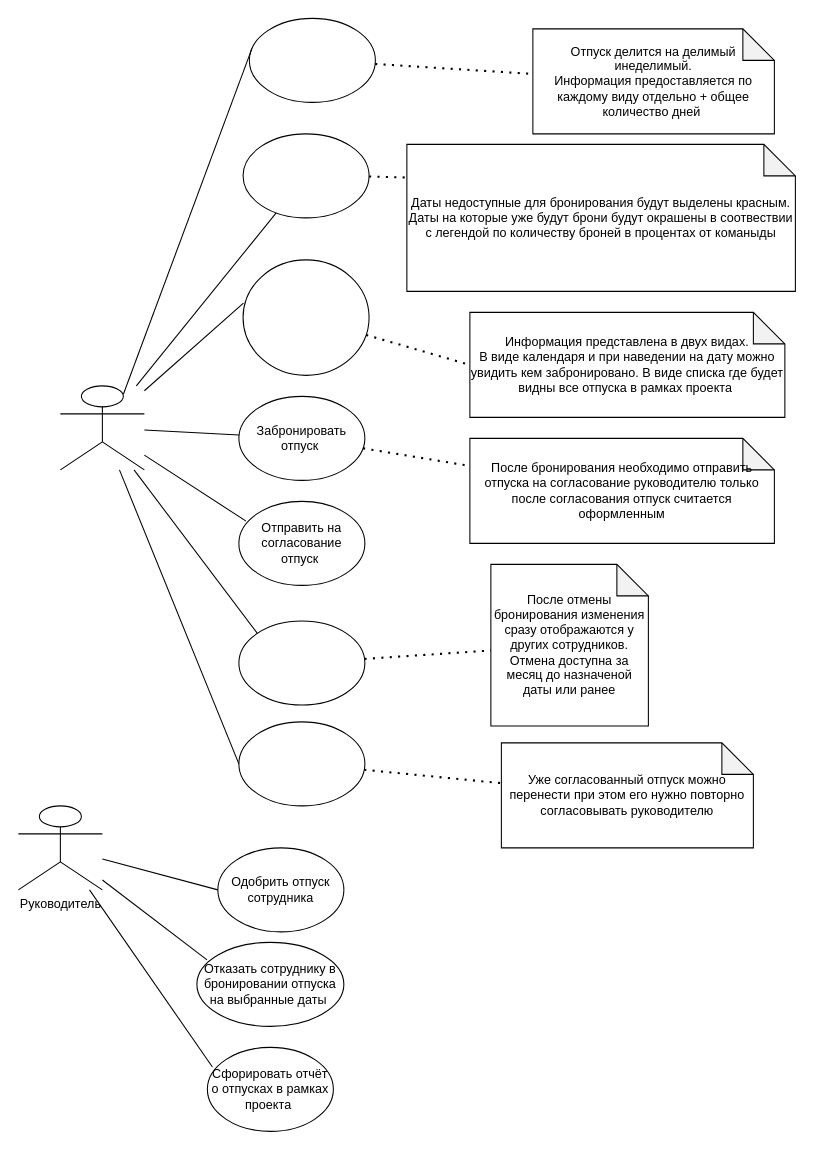
Image size: 814x1150. Some labels were removed from this diagram. Each missing label, with the centre of its shape:
"Отменить бронирование" goes at (301,662).
"Перенести отпуск" goes at (301,763).
"Посмотреть доступные даты для бронирования отпуска" goes at (305,175).
"Просмотреть календарь с информацией о бронировании отпуска в рамках проекта" goes at (305,317).
"Просмотреть количество доступных дней отпуска" goes at (311,59).
"Сотрудник" goes at (101,427).
